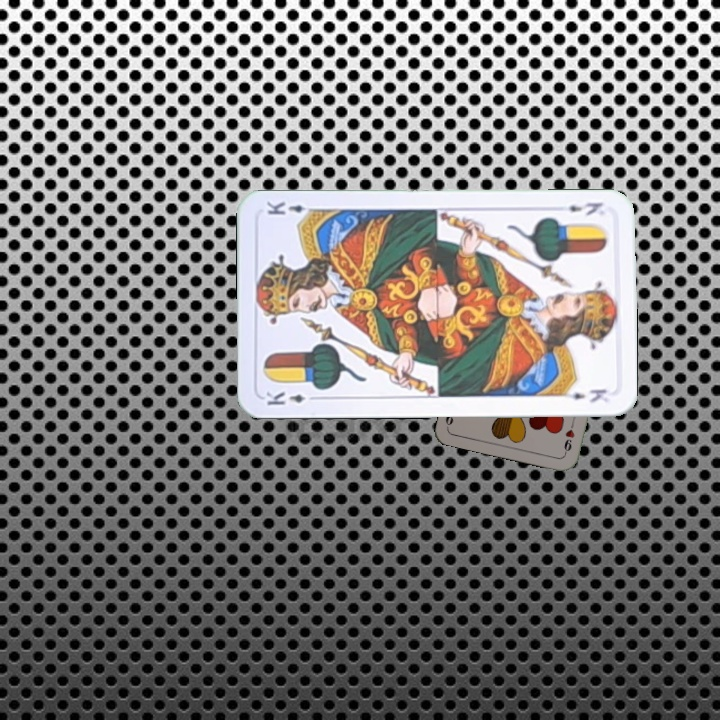EK: (262, 388, 321, 408), (564, 198, 605, 218)
H9: (560, 416, 577, 456)
